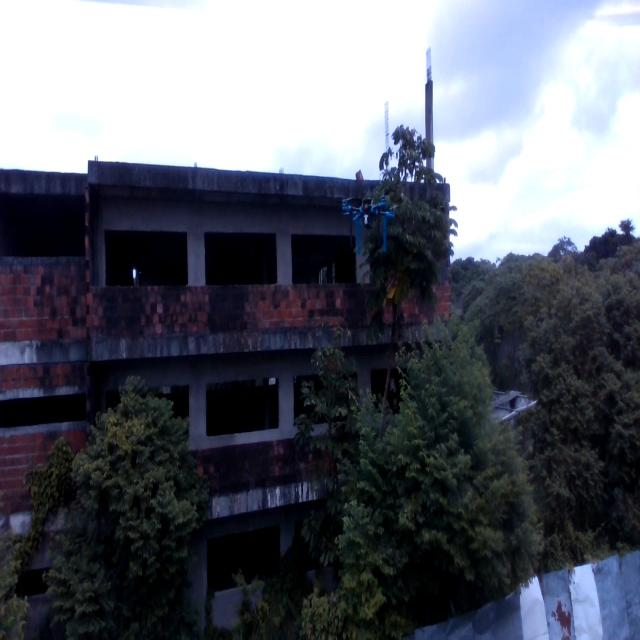-uav-: (335, 166, 401, 267)
